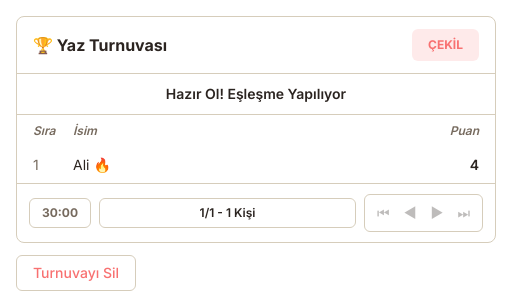
Test: Canlı turnuva sayfası — /play/tournament/[id] › Madde 2026-09-09 (5): KATIL/ÇEKİL ve sayfalanan sıralama › katılan sporcuya "ÇEKİL" gösterilir, tıklayınca turnuvadan çıkar
Step 1. Click the button "ÇEKİL" → (446, 45), box left=412, top=29, right=479, bottom=61
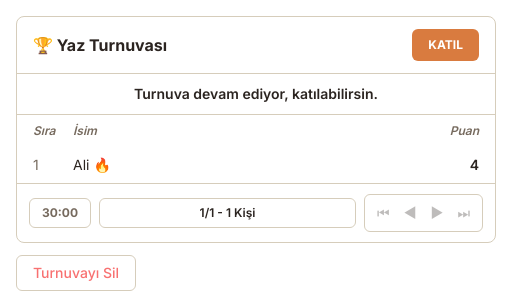
expect the button "KATIL" is shown: met, box left=412, top=29, right=479, bottom=61
